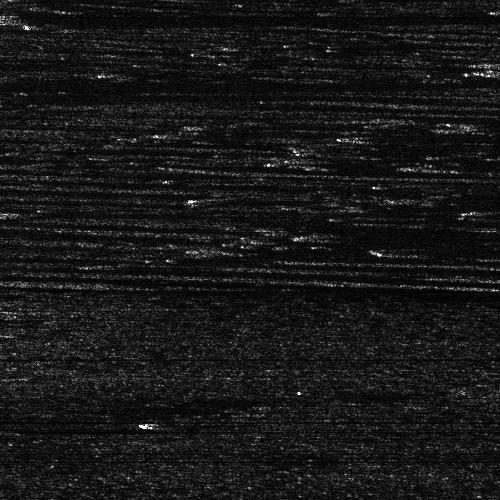rock: (354, 245, 427, 254), (131, 413, 162, 430), (0, 12, 43, 23), (170, 195, 253, 200), (0, 90, 31, 101), (0, 209, 48, 214), (0, 425, 10, 430)
shadow: (0, 74, 420, 95), (12, 12, 431, 23), (0, 90, 156, 101), (0, 373, 70, 396), (147, 413, 234, 430), (17, 209, 182, 214), (391, 245, 480, 254), (0, 425, 150, 430), (0, 146, 25, 167), (212, 195, 298, 200)
